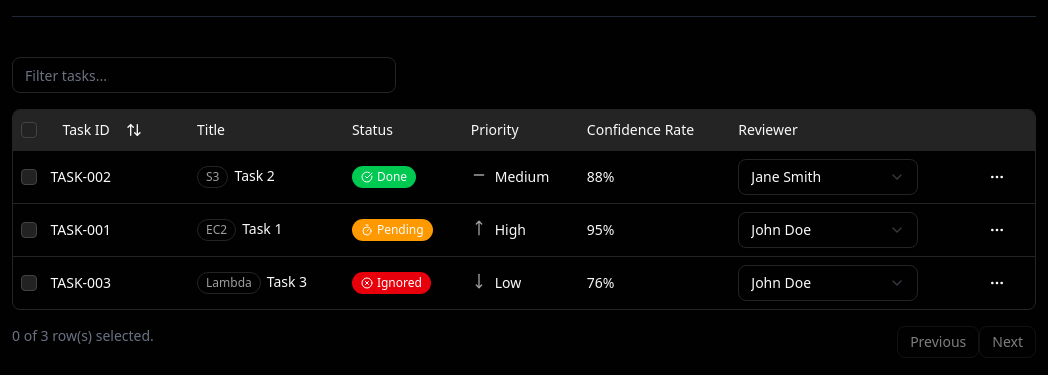
Test: TaskTable › filters rows by title
The width and height of the screenshot is (1048, 375).
In the field with placeholder "Filter tasks...": (204, 75) x1=12 y1=57 x2=396 y2=93, type "Task 2"
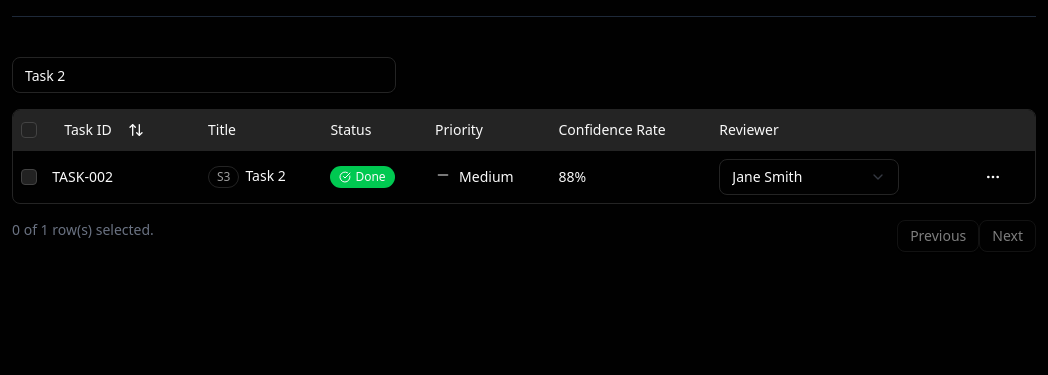
Expected: the text "TASK-002" is shown, x1=44 y1=150 x2=200 y2=202
Now the text "TASK-001" is gone
Now the text "TASK-003" is gone
